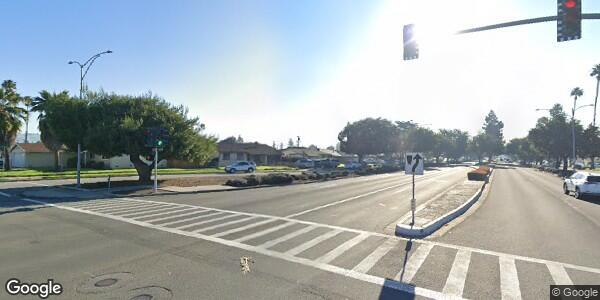Steel_Pole: (66, 48, 117, 188)
